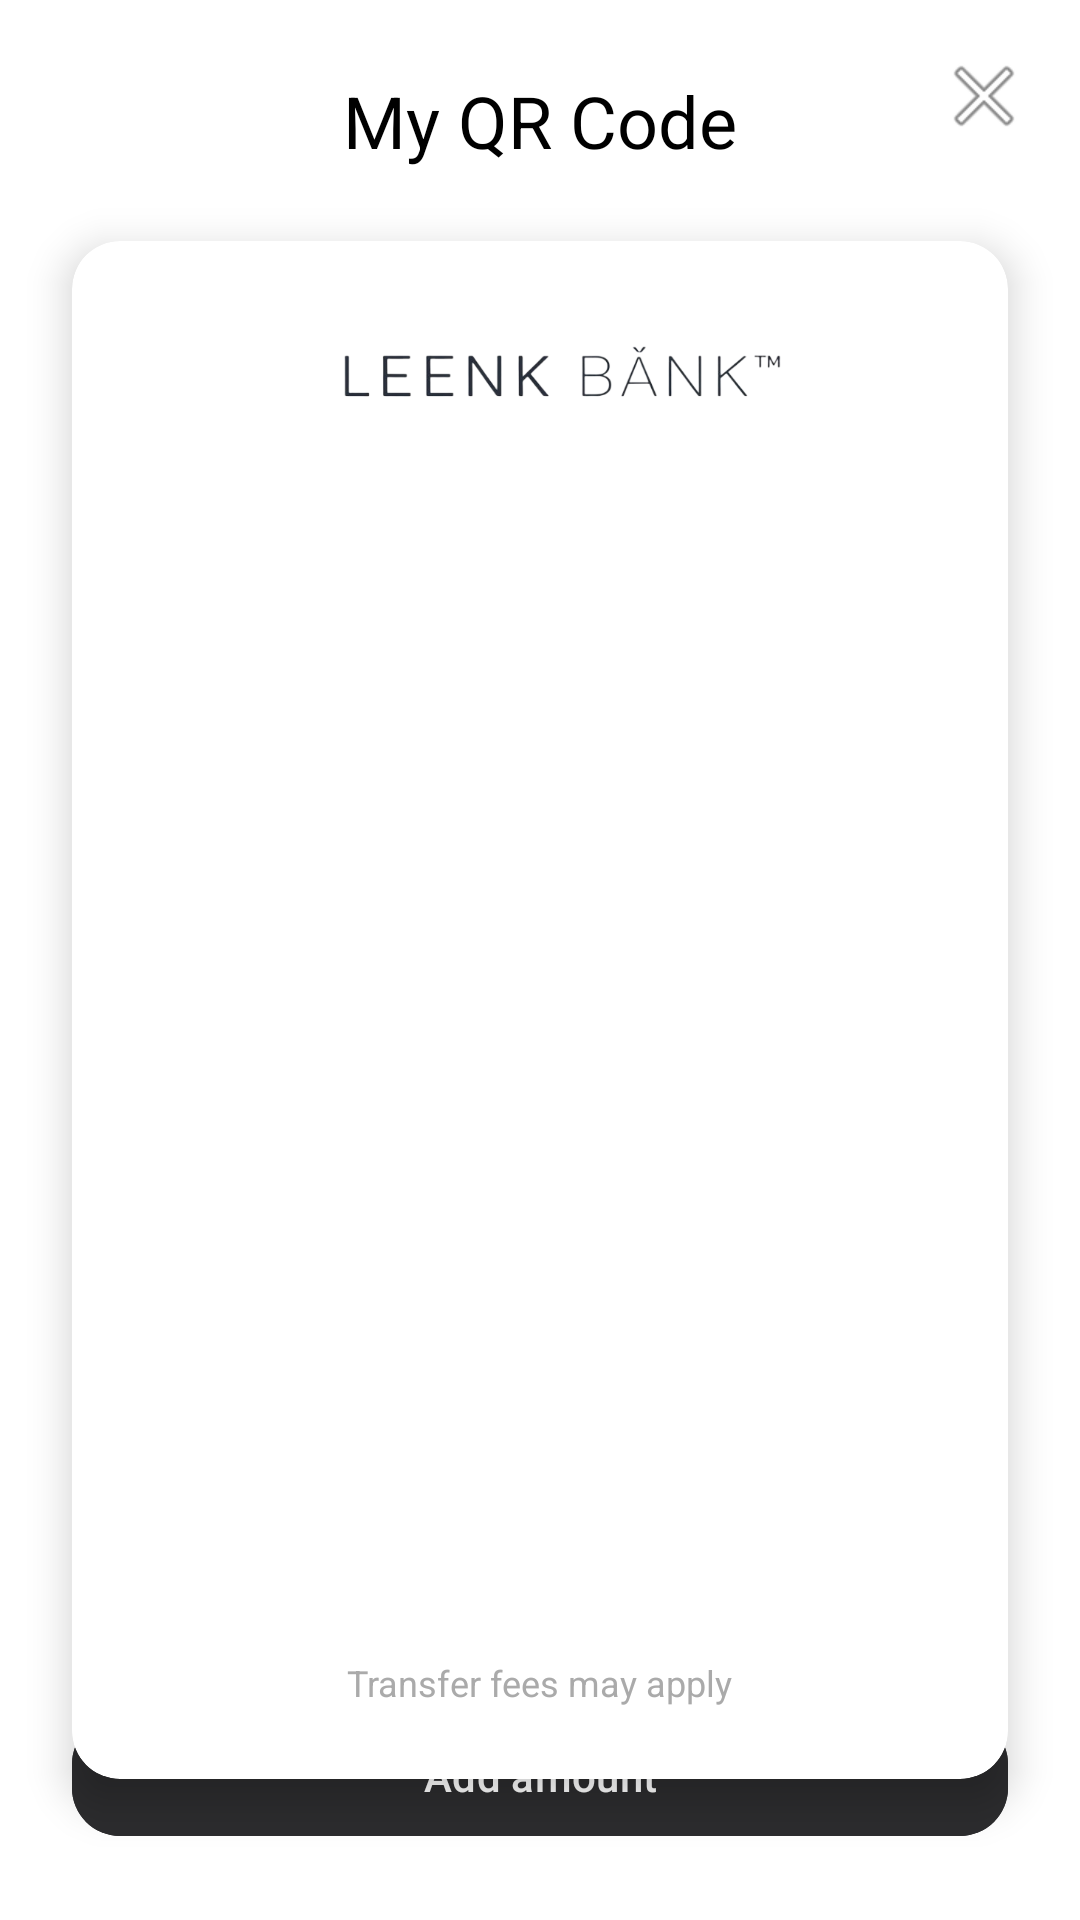

Icon bounding boxes for this 1080x1920 phone screenshot, format (x1, y1, x2, y2):
Close: (954, 66, 1014, 126)
